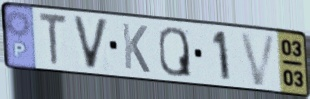1: (211, 29, 233, 84)
K: (120, 21, 152, 75)
Q: (157, 25, 194, 79)
T: (37, 11, 69, 69)
V: (237, 30, 280, 88), (70, 14, 111, 72)
